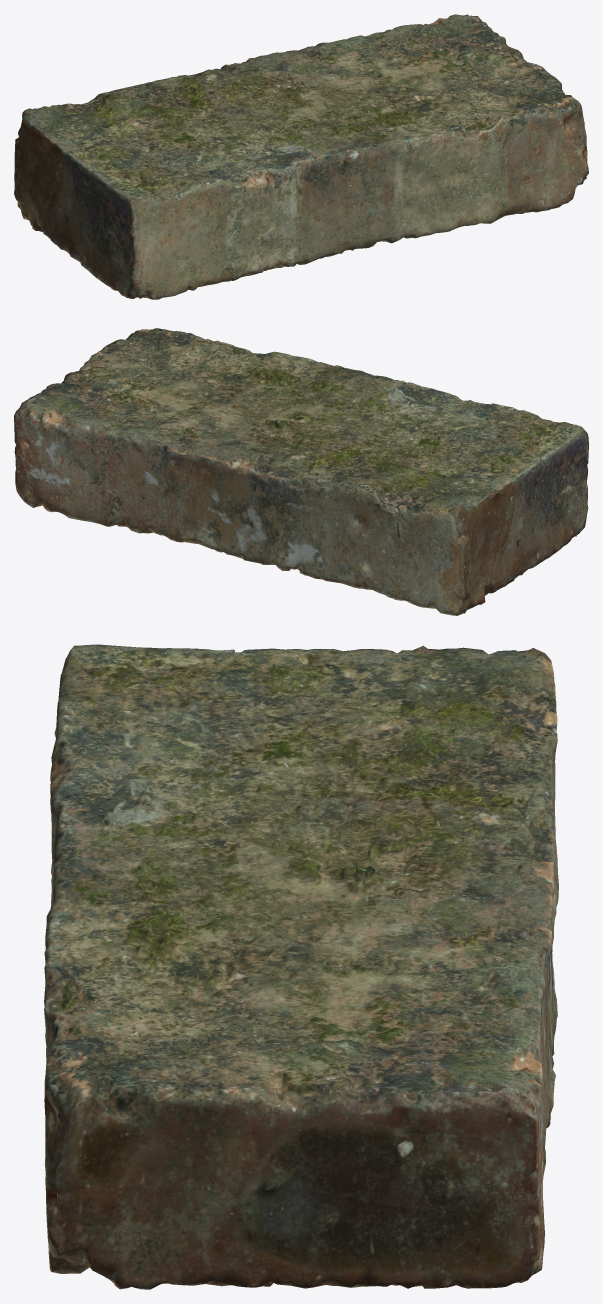
The model's file is PX_Fired_brick_01_LOD0.fbx.
3 views of the same model, one above another, from view 1: azimuth 30°, elevation 25°; view 2: azimuth 150°, elevation 25°; view 3: azimuth 270°, elevation 25° (orthographic). The views are drawn at different scales.
Visible parts, largest first — view 1: PX_Fired_brick_01_LOD0; view 2: PX_Fired_brick_01_LOD0; view 3: PX_Fired_brick_01_LOD0.
Boxes of the visible parts, x1,y1,x2,y2 form: PX_Fired_brick_01_LOD0: (14,14,588,299); PX_Fired_brick_01_LOD0: (14,328,588,615); PX_Fired_brick_01_LOD0: (44,644,558,1289).
Bounding box in the file's own units: 26.82 × 6.2 × 13.04.
